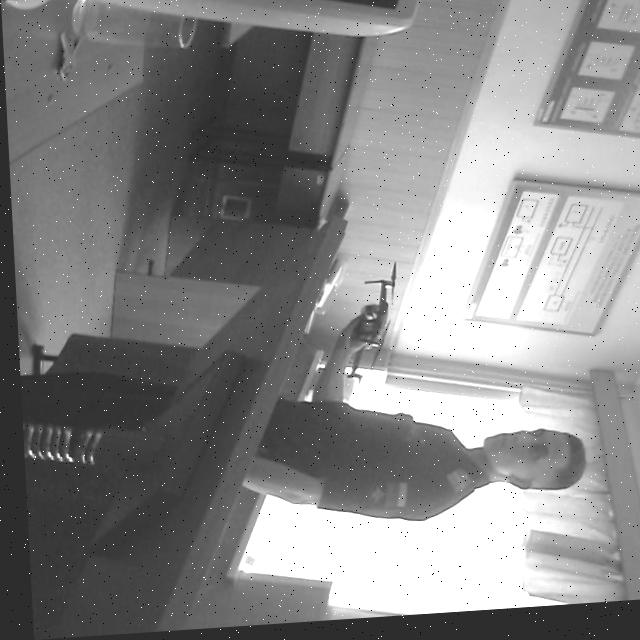drone: (319, 266, 418, 399)
